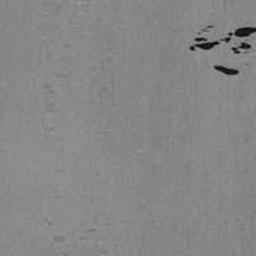Inclusion: (189, 24, 256, 55), (214, 65, 239, 76)
